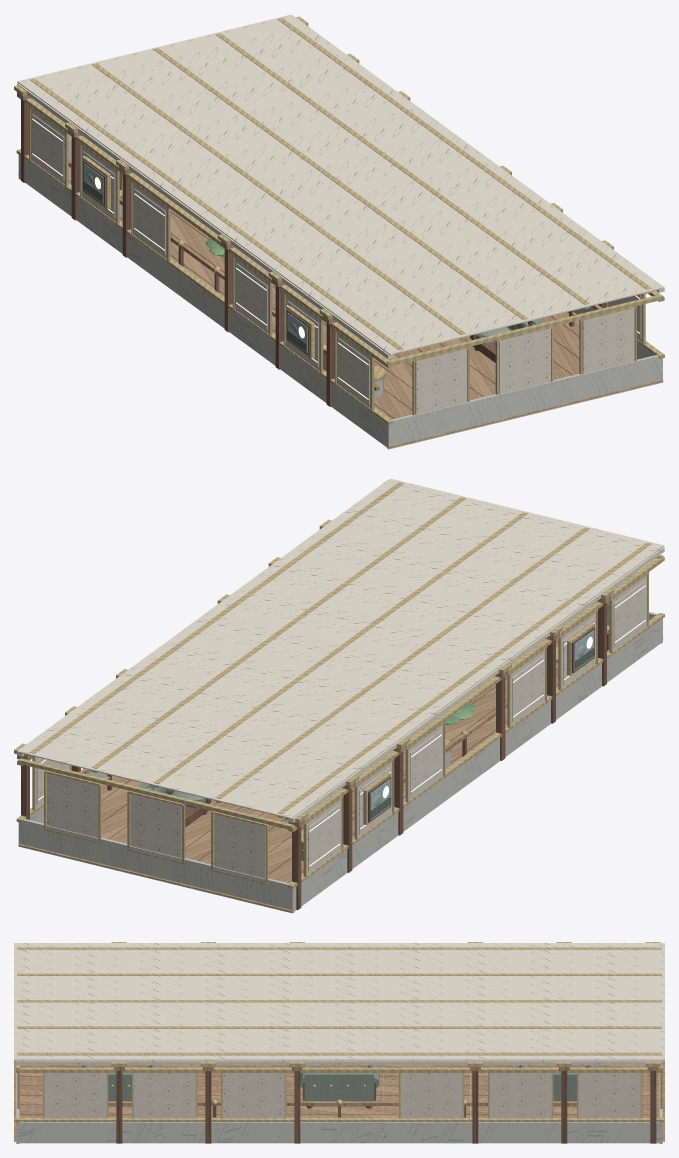
Rendered from promenade.gltf.
The picture shows the model from 3 angles, top to bottom: view 1: azimuth 30°, elevation 25°; view 2: azimuth 150°, elevation 25°; view 3: azimuth 270°, elevation 25°; orthographic projection. The views are drawn at different scales.
Parts seen in each view (by area): view 1: ivory, gold, cream, marble, oak, oakdark, sky; view 2: ivory, gold, cream, marble, oak, oakdark, sky; view 3: ivory, gold, cream, marble, oak, oakdark, green.
Boxes of the visible parts, x1,y1,x2,y2 form: ivory: (17, 14, 664, 358); gold: (14, 16, 664, 424); cream: (30, 108, 642, 414); marble: (18, 137, 662, 449); oak: (17, 92, 663, 447); oakdark: (21, 99, 605, 418); sky: (83, 163, 307, 353); ivory: (17, 478, 664, 822); gold: (14, 482, 664, 888); cream: (35, 574, 647, 878); marble: (18, 602, 662, 913); oak: (17, 595, 663, 911); oakdark: (21, 602, 609, 909); sky: (370, 630, 594, 819); ivory: (14, 943, 664, 1064); gold: (14, 942, 664, 1122); cream: (43, 1073, 641, 1118); marble: (16, 1073, 662, 1143); oak: (14, 1060, 664, 1141); oakdark: (21, 1066, 657, 1143); green: (81, 1065, 597, 1101).
Bounding box in the file's own units: 9.28 × 2.99 × 20.85.
Materials: 16 (16 with a texture image).
